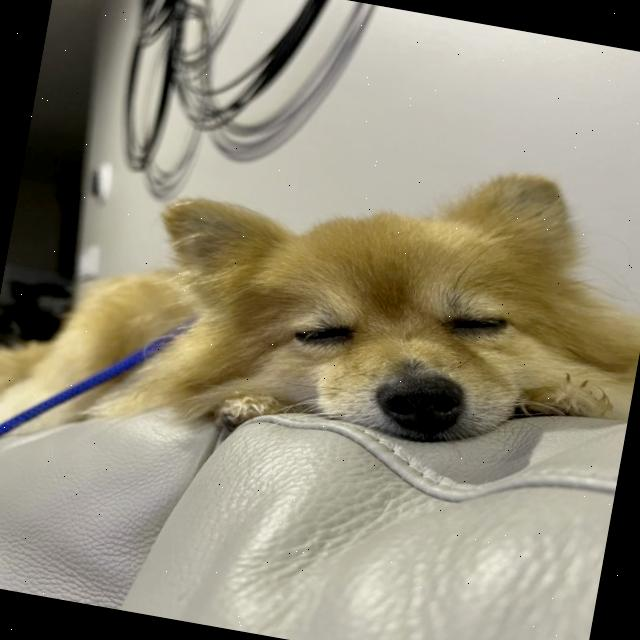pomeranian_dog: (98, 101, 630, 478)
